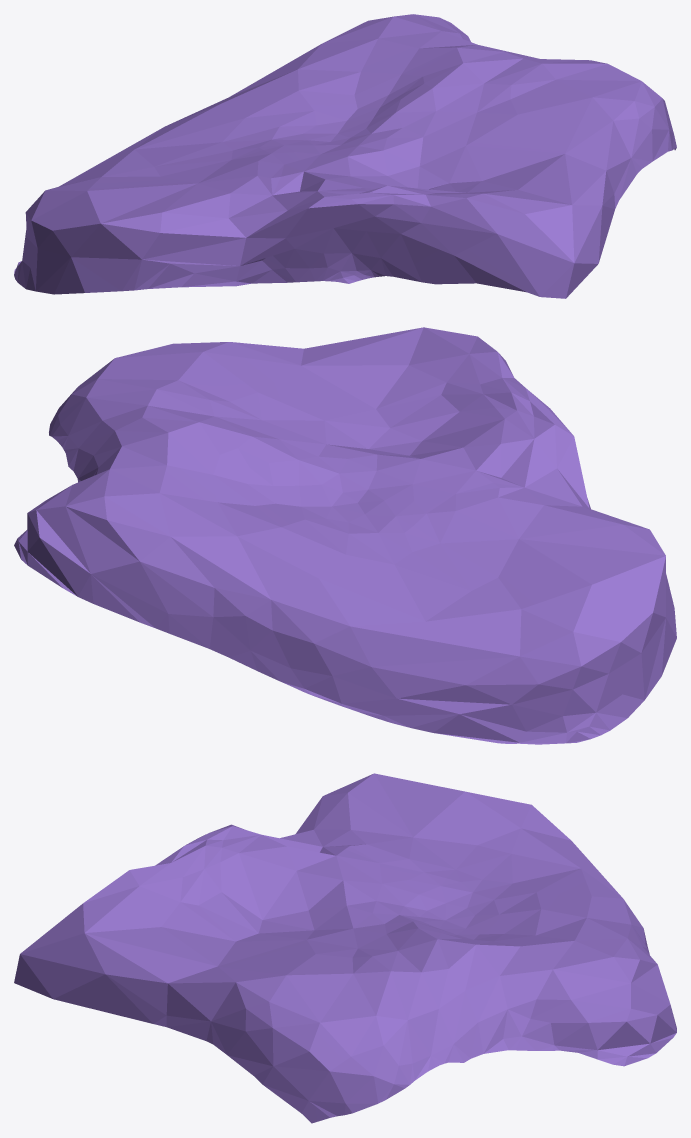
Rendered from ground_016.fbx.
3 views of the same model, one above another, from view 1: azimuth 30°, elevation 25°; view 2: azimuth 150°, elevation 25°; view 3: azimuth 270°, elevation 25° (orthographic). The views are drawn at different scales.
Parts seen in each view (by area): view 1: ground.016; view 2: ground.016; view 3: ground.016.
Part boxes in pixels (x1,y1,x2,y2): ground.016: (14,14,676,298); ground.016: (14,327,676,744); ground.016: (14,773,676,1123).
Bounding box in the file's own units: 2704 × 686 × 2374.
Materials: 1 (1 with a texture image).
